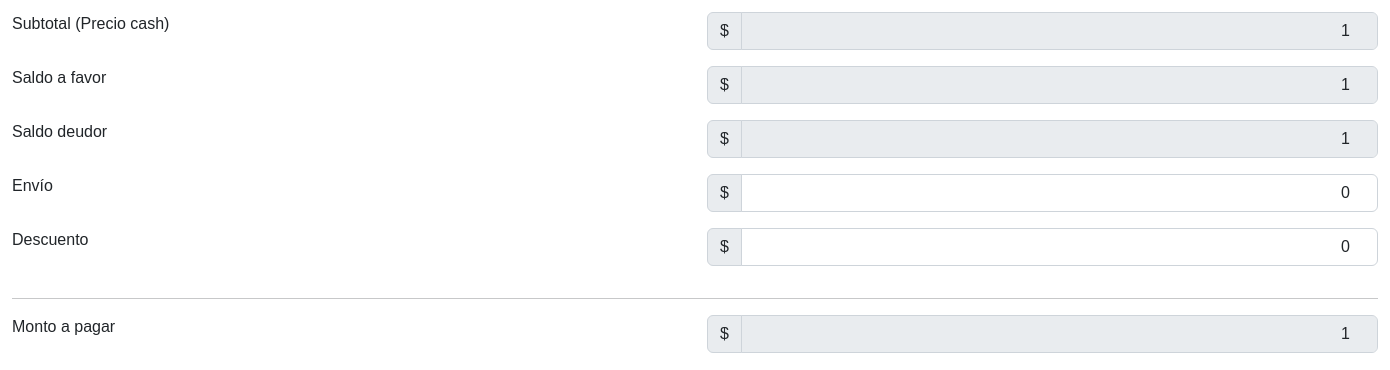
Test: <PriceBreakdown /> › displays total value correctly
Replace the text in the number field labelled "Envío" with "1" at point(1059, 193), box [741,174,1378,212]
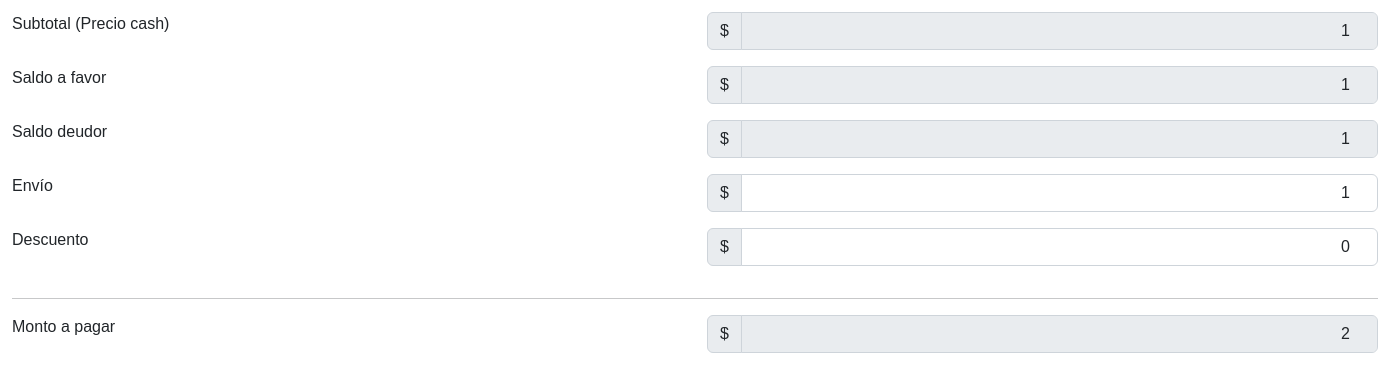
Replace the text in the number field labelled "Descuento" with "1" at point(1059, 247), box [741,228,1378,266]
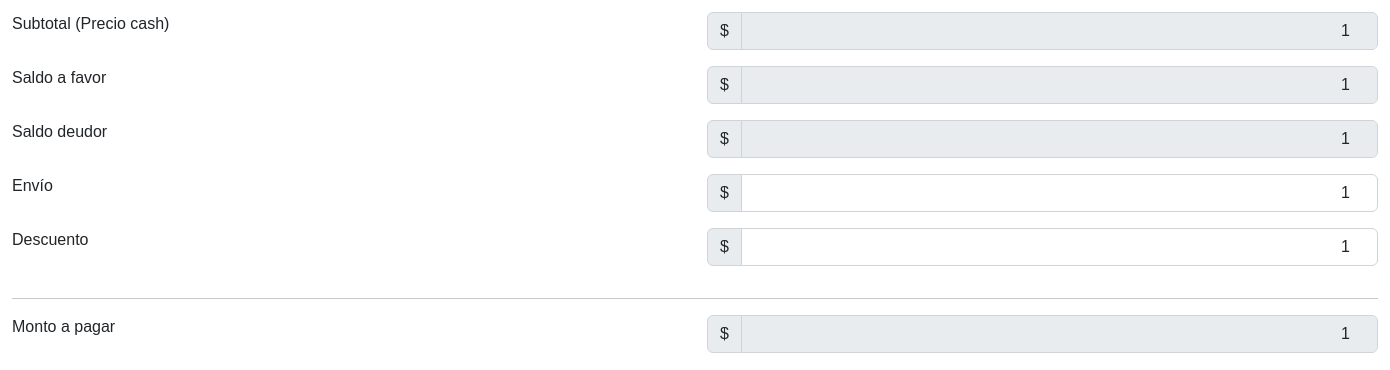
Expected: the number field labelled "Monto a pagar" holds "1", [741,315,1378,353]
